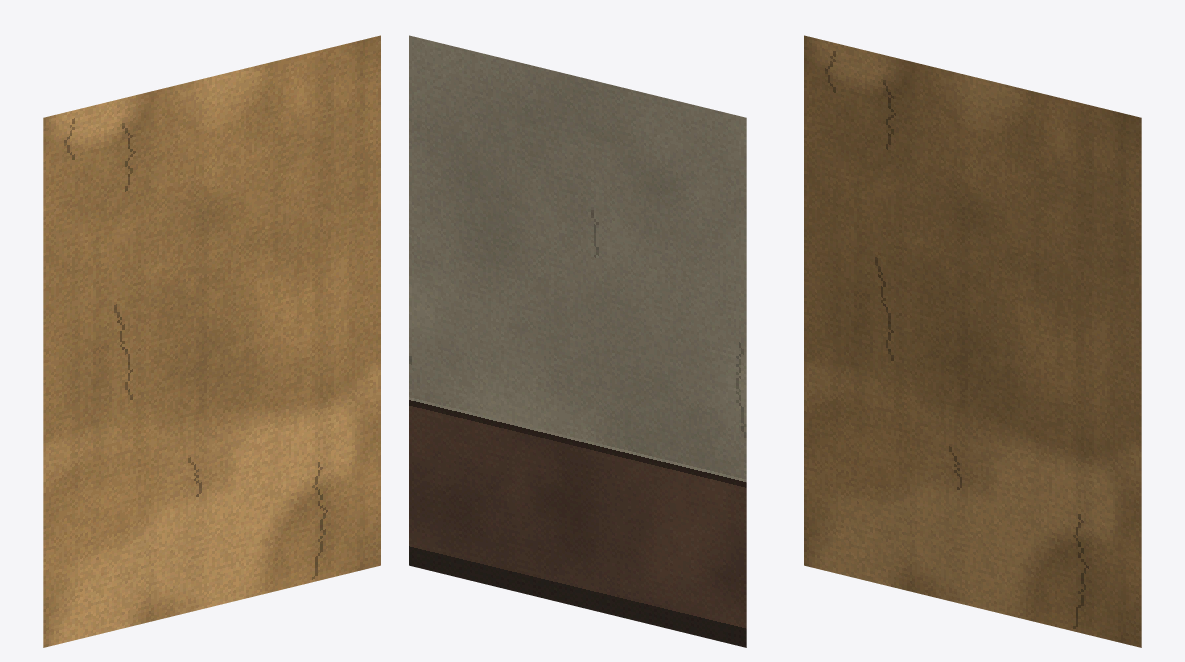
Rendered from ext_wall.gltf.
3 renders of one model, left to right at view 1: azimuth 30°, elevation 25°; view 2: azimuth 150°, elevation 25°; view 3: azimuth 330°, elevation 25°, orthographic.
Parts seen in each view (by area): view 1: ext_wall-col; view 2: ext_wall-col; view 3: ext_wall-col.
Part boxes in pixels (box(x1,y1,x2,y2)): ext_wall-col: box(43, 35, 380, 647); ext_wall-col: box(409, 35, 746, 647); ext_wall-col: box(804, 35, 1141, 647).
Bounding box in the file's own units: 2 × 3 × 0.3.
2 materials, 2 textured.
